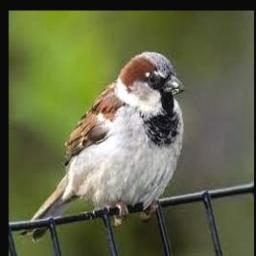Sparrow: (20, 52, 184, 243)
